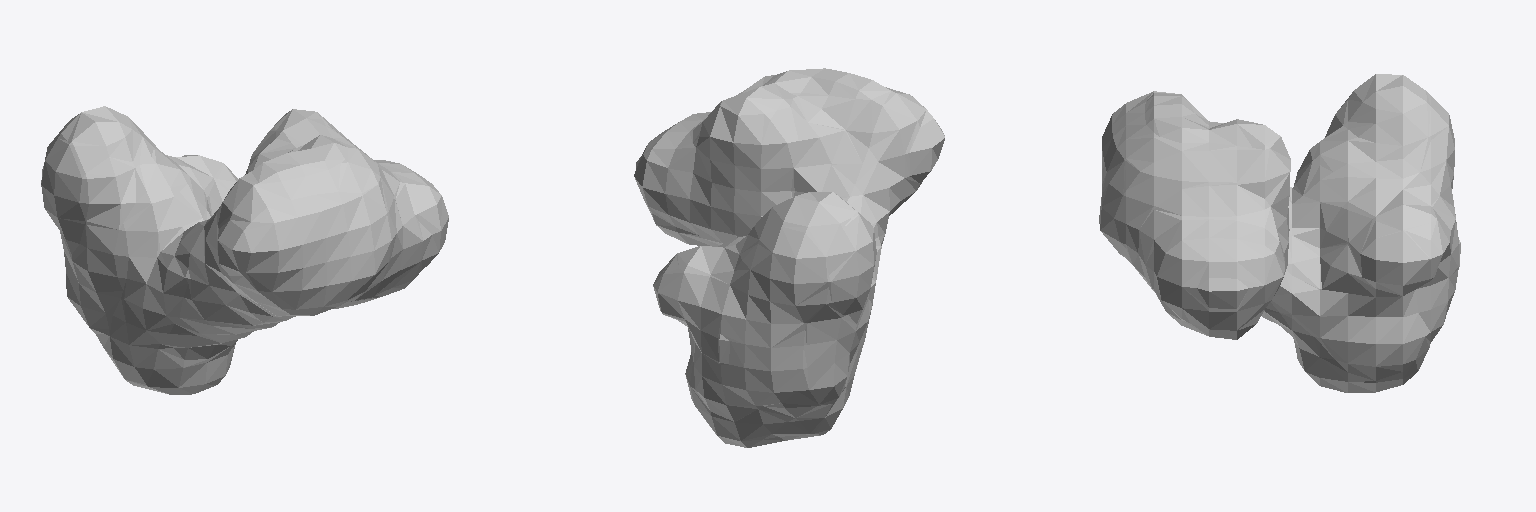
The model's file is 1yf2_1_cms.obj.
3 views of the same model, side by side, from view 1: azimuth 30°, elevation 25°; view 2: azimuth 150°, elevation 25°; view 3: azimuth 270°, elevation 25° (orthographic).
Size of the model in its own units: 83.19 by 75.48 by 84.59.